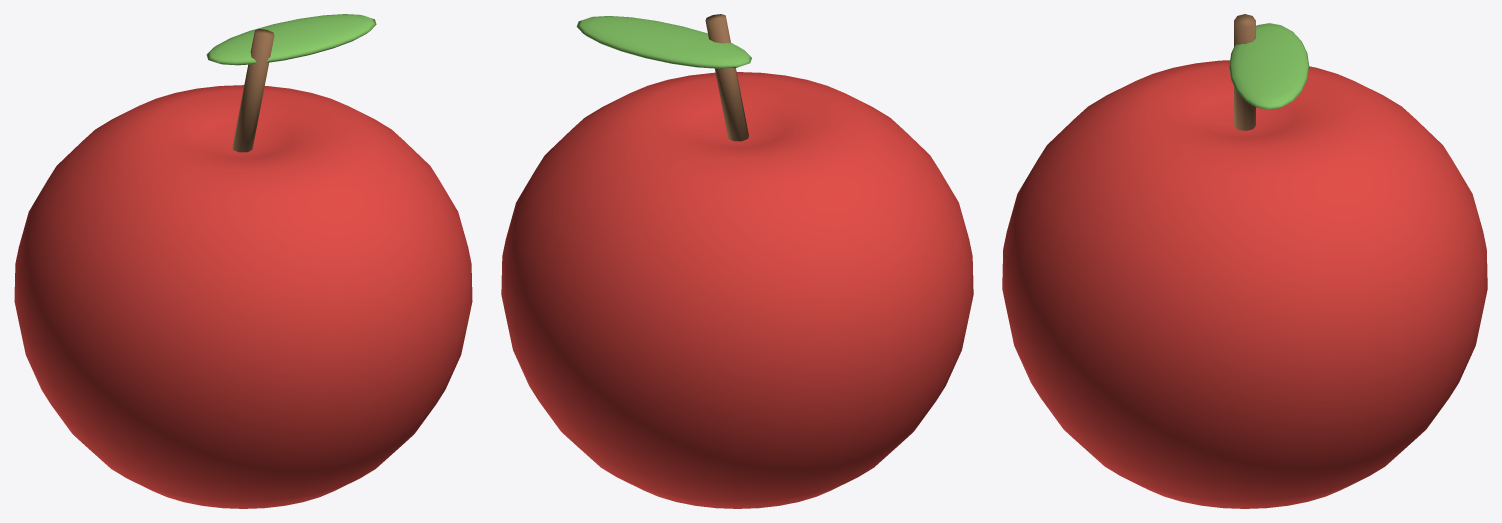
The model's file is SM_Apple.glb.
The picture shows the model from 3 angles, left to right: view 1: azimuth 30°, elevation 25°; view 2: azimuth 150°, elevation 25°; view 3: azimuth 270°, elevation 25°; orthographic projection. The views are drawn at different scales.
Visible parts, largest first — view 1: SM_Apple; view 2: SM_Apple; view 3: SM_Apple.
Boxes of the visible parts, x1,y1,x2,y2 form: SM_Apple: (14, 14, 472, 508); SM_Apple: (501, 14, 973, 508); SM_Apple: (1002, 14, 1487, 508).
Size of the model in its own units: 0.08 by 0.0833 by 0.08.
